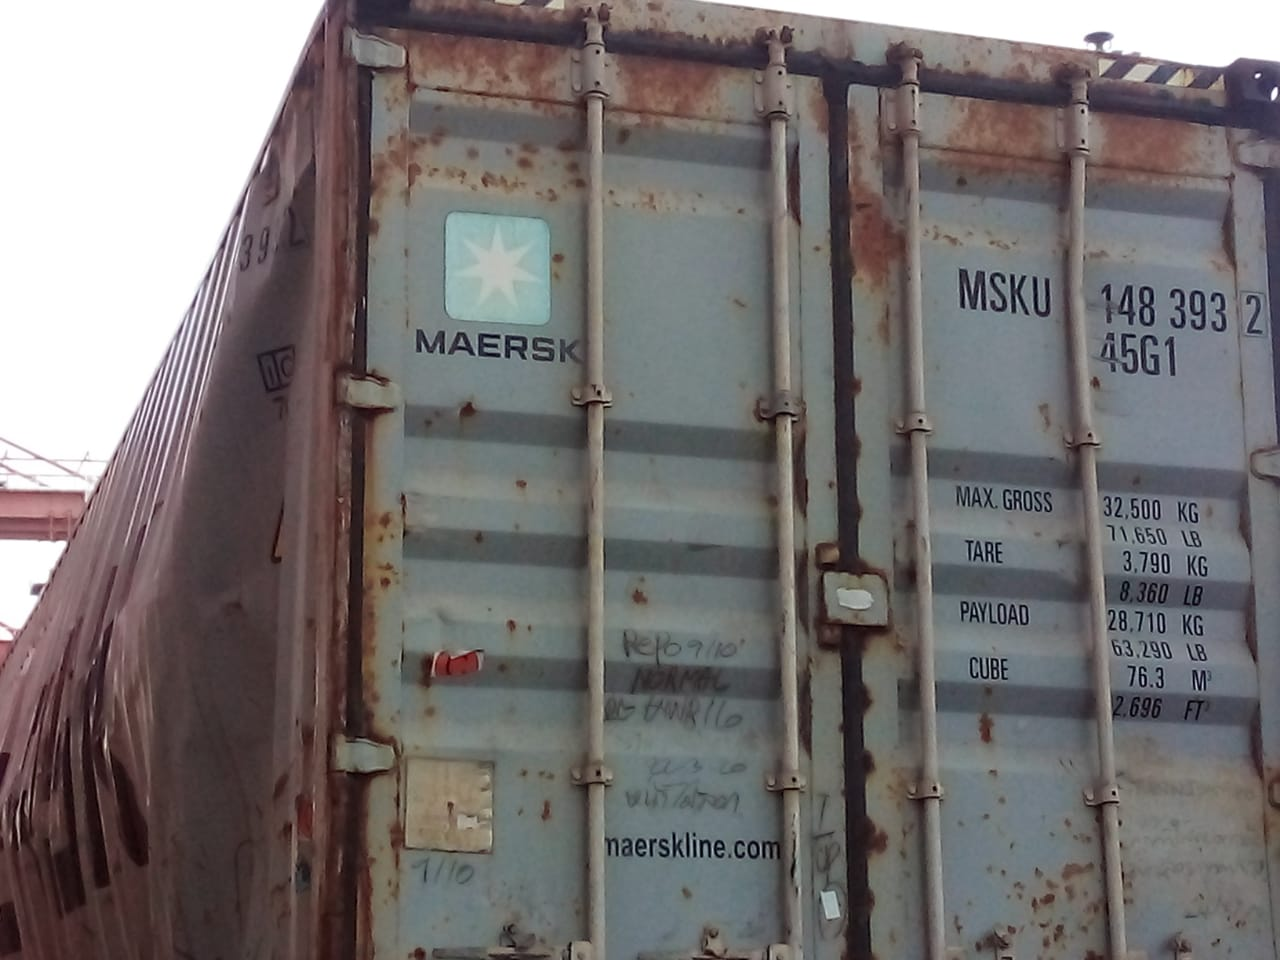bulged: (47, 221, 307, 853)
rust: (917, 90, 1228, 184), (417, 37, 731, 118), (992, 829, 1151, 935)
